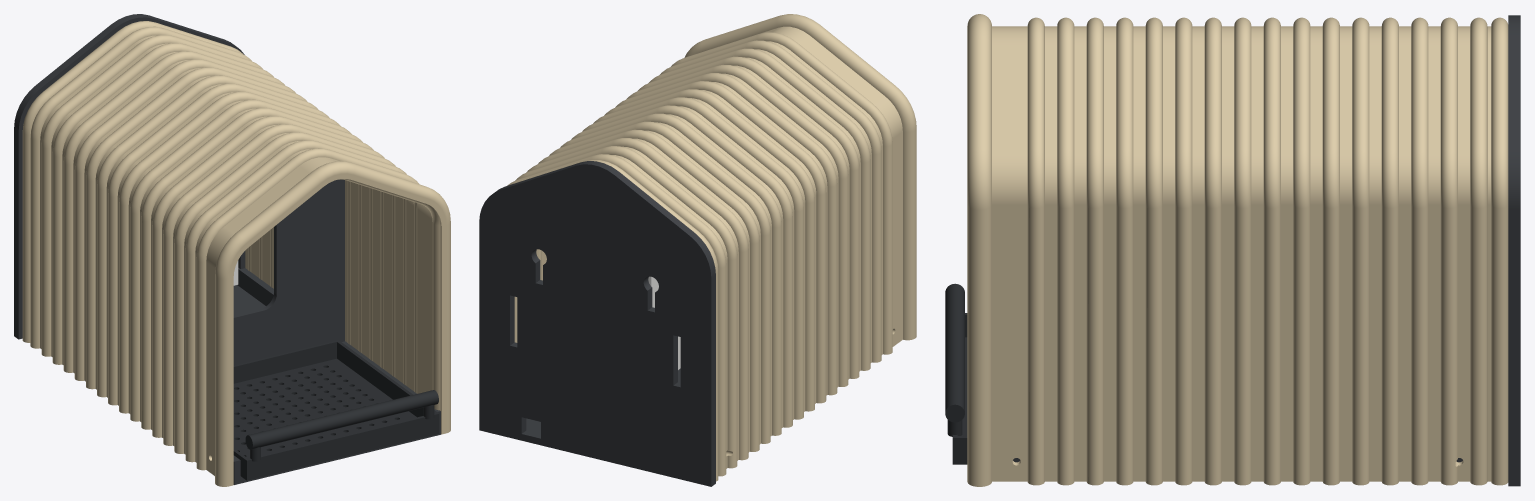
Rendered from assembly.glb.
3 views of the same model, side by side, from view 1: azimuth 30°, elevation 25°; view 2: azimuth 150°, elevation 25°; view 3: azimuth 270°, elevation 25° (orthographic). The views are drawn at different scales.
Visible parts, largest first — view 1: hood, tray, window, base; view 2: hood, base; view 3: hood, base, tray.
Part boxes in pixels (x1,y1,x2,y2): hood: [22, 21, 450, 486]; tray: [233, 340, 439, 480]; window: [233, 179, 344, 364]; base: [14, 14, 440, 484]; hood: [507, 14, 916, 481]; base: [479, 161, 715, 486]; hood: [967, 14, 1508, 486]; base: [1013, 15, 1520, 486]; tray: [945, 283, 967, 464].
Bounding box in the file's own units: 0.146 × 0.1754 × 0.234.
